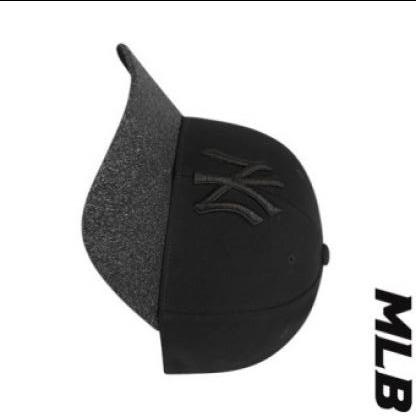cap: (75, 32, 342, 393)
